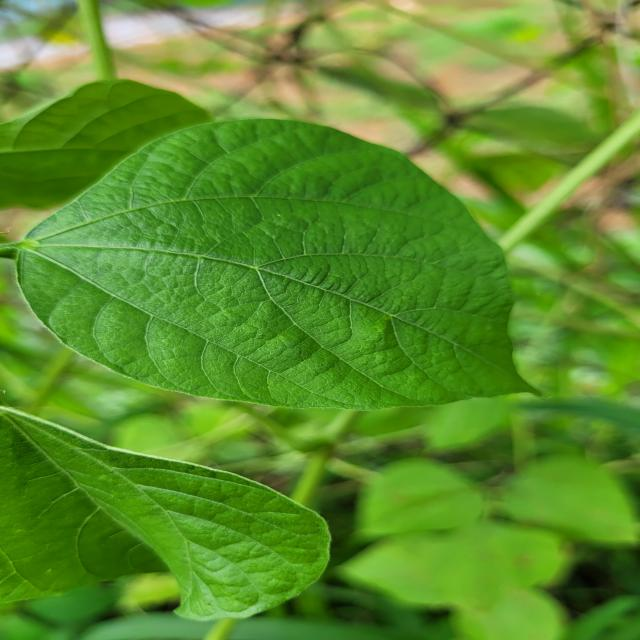Dolicos bean_healthy: (20, 118, 542, 406), (0, 401, 336, 625), (0, 52, 226, 222), (350, 516, 540, 606), (333, 450, 492, 536), (497, 451, 640, 538)
